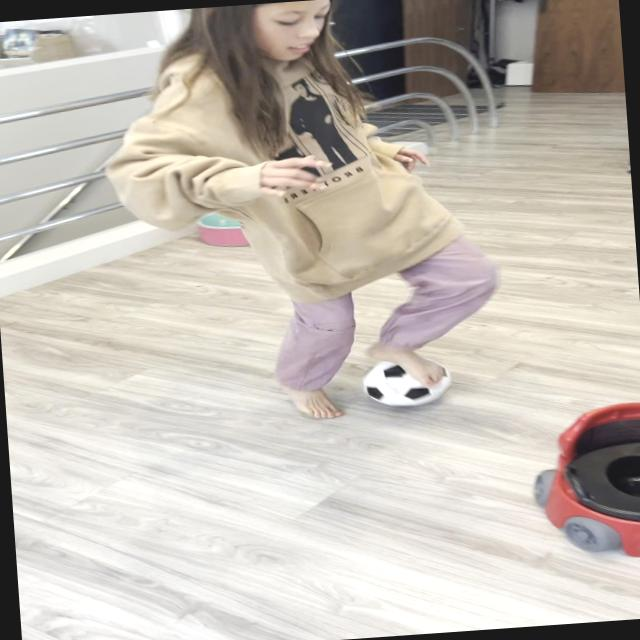Soccer Ball: (359, 356, 452, 408)
